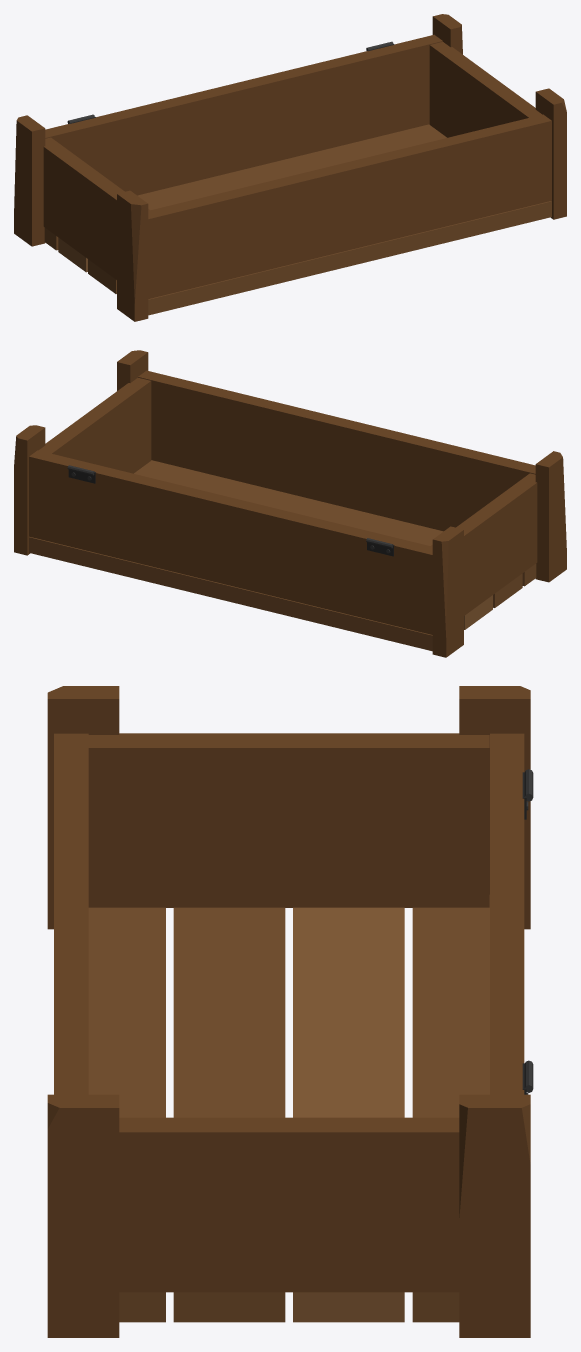
The model's file is AmoBox_01.fbx.
3 renders of one model, top to bottom at view 1: azimuth 30°, elevation 25°; view 2: azimuth 150°, elevation 25°; view 3: azimuth 270°, elevation 25°, orthographic. The views are drawn at different scales.
Parts seen in each view (by area): view 1: AmoBox_01; view 2: AmoBox_01; view 3: AmoBox_01.
Boxes of the visible parts, x1,y1,x2,y2 form: AmoBox_01: [14, 14, 566, 321]; AmoBox_01: [14, 350, 566, 657]; AmoBox_01: [47, 686, 533, 1337].
Bounding box in the file's own units: 96.05 × 24.43 × 46.73.
